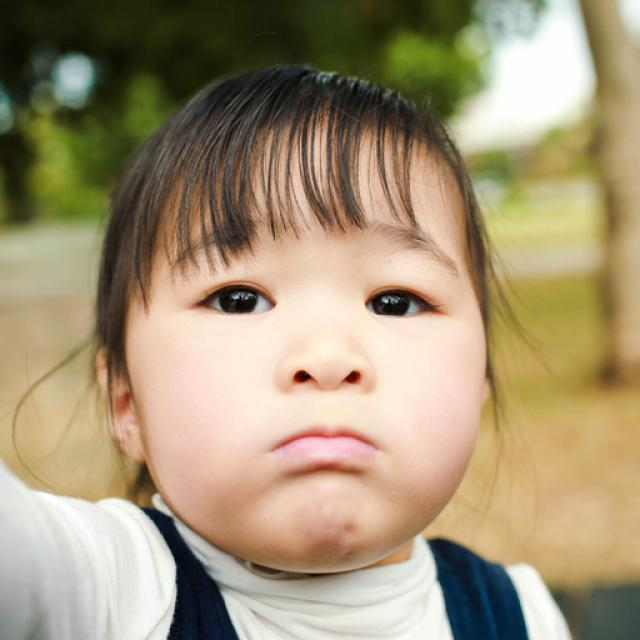sad: (129, 132, 485, 552)
